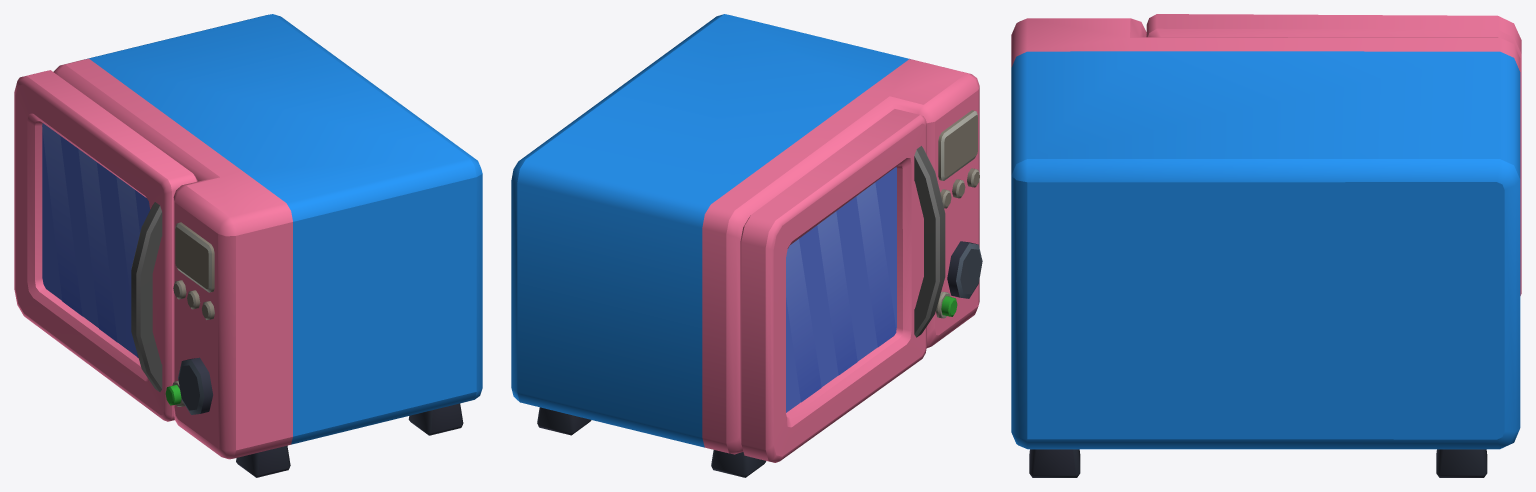
Rendered from Microvawe_A.glb.
3 renders of one model, left to right at view 1: azimuth 30°, elevation 25°; view 2: azimuth 150°, elevation 25°; view 3: azimuth 270°, elevation 25°, orthographic. The views are drawn at different scales.
Parts seen in each view (by area): view 1: Microvawe_A, Microvawe_A_Door; view 2: Microvawe_A, Microvawe_A_Door; view 3: Microvawe_A, Microvawe_A_Door.
Boxes of the visible parts, x1,y1,x2,y2 form: Microvawe_A: (53, 14, 482, 477); Microvawe_A_Door: (14, 70, 197, 421); Microvawe_A: (511, 14, 982, 477); Microvawe_A_Door: (740, 109, 945, 462); Microvawe_A: (1011, 18, 1520, 477); Microvawe_A_Door: (1146, 14, 1521, 295).
Size of the model in its own units: 0.4075 by 0.3648 by 0.5223.
2 materials, 2 textured.
